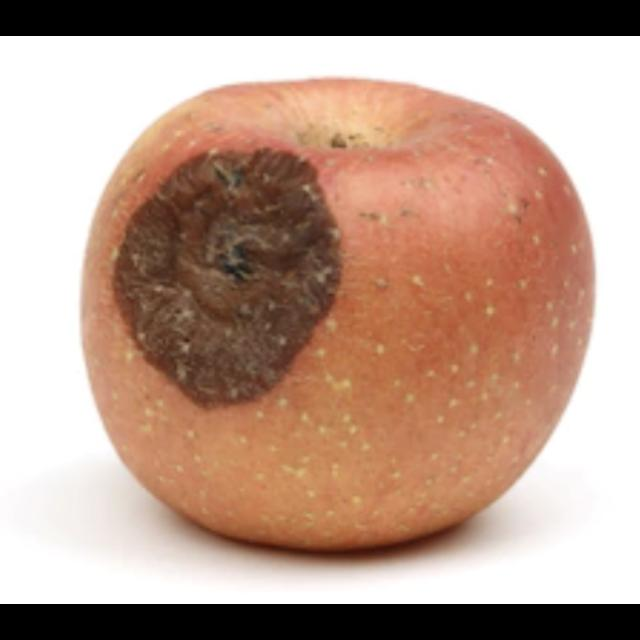Apel Tidak Segar: (70, 70, 604, 566)
